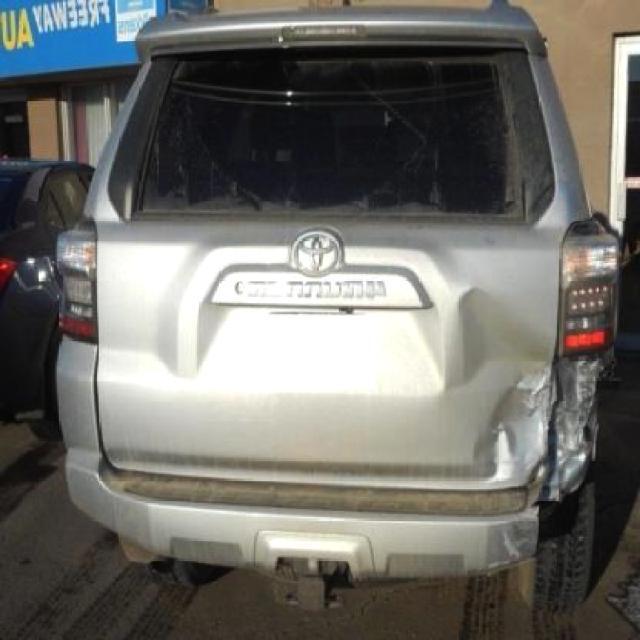minor: (482, 218, 617, 526)
